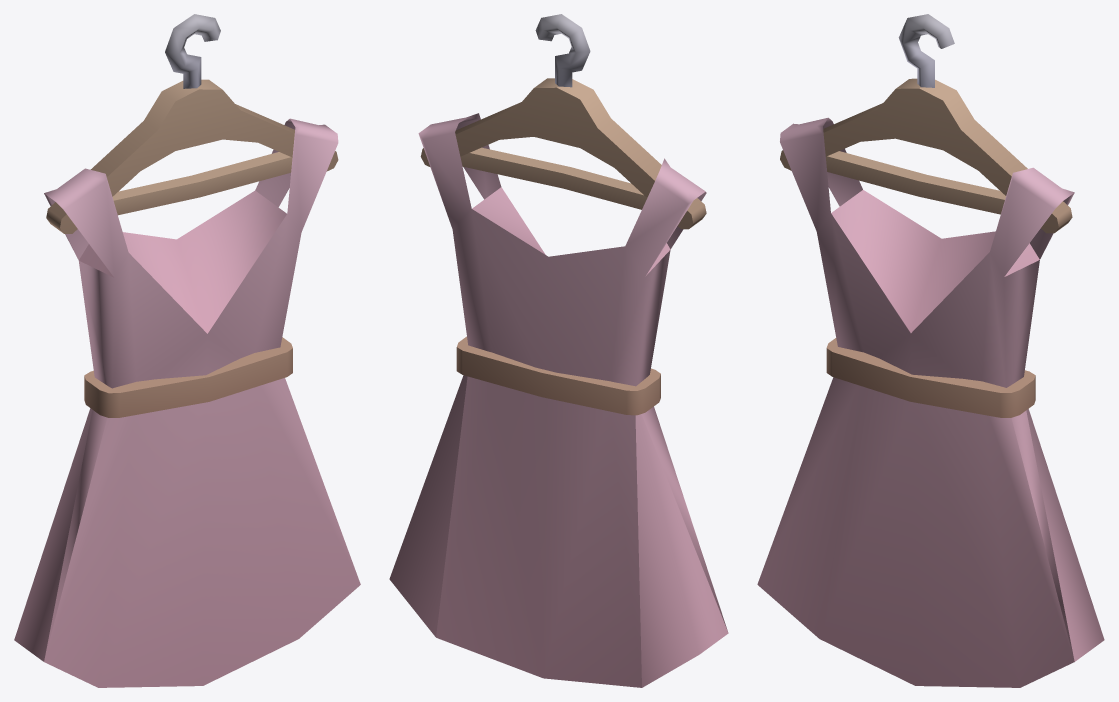
File: clothing-hanging-dress.glb
3 views of the same model, side by side, from view 1: azimuth 30°, elevation 25°; view 2: azimuth 150°, elevation 25°; view 3: azimuth 330°, elevation 25° (orthographic). The views are drawn at different scales.
Parts seen in each view (by area): view 1: clothing-hanging-dress; view 2: clothing-hanging-dress; view 3: clothing-hanging-dress.
Boxes of the visible parts, x1,y1,x2,y2 form: clothing-hanging-dress: (14, 14, 360, 687); clothing-hanging-dress: (389, 14, 728, 687); clothing-hanging-dress: (757, 14, 1104, 687).
Bounding box in the file's own units: 0.5336 × 1.07 × 0.1217.
